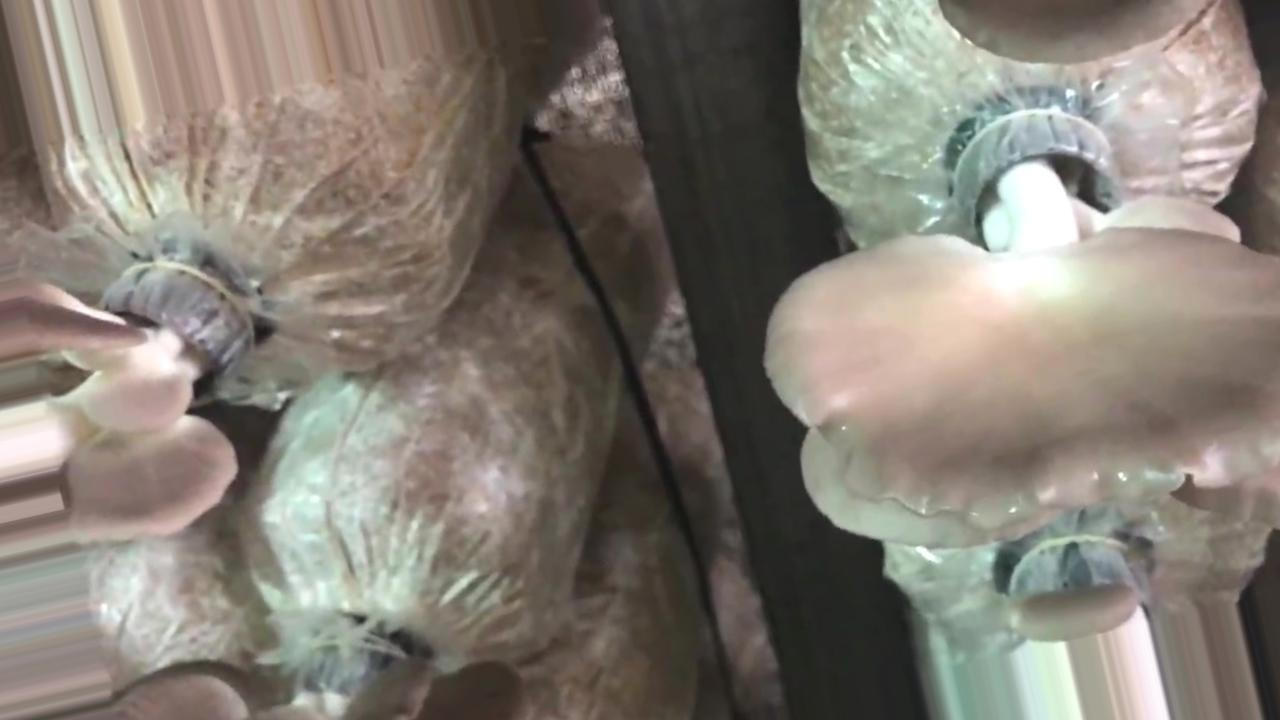nam: (759, 99, 1280, 551), (1, 270, 277, 546), (936, 1, 1189, 68)
